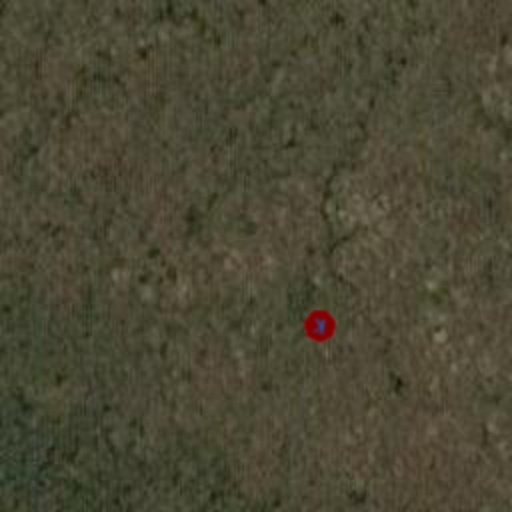heptagon: (298, 304, 342, 348)
